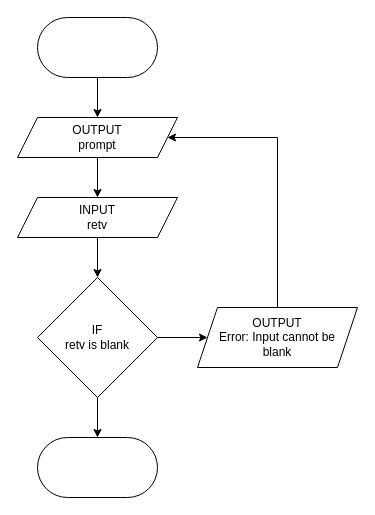
This 375x515 diagram has some shape labels left out. Here are the shapes that lost their labels. From the top down, the centre of each, then its label:
At point (97, 47): "START get_str(prompt)".
At point (97, 467): "RETURN retv".
